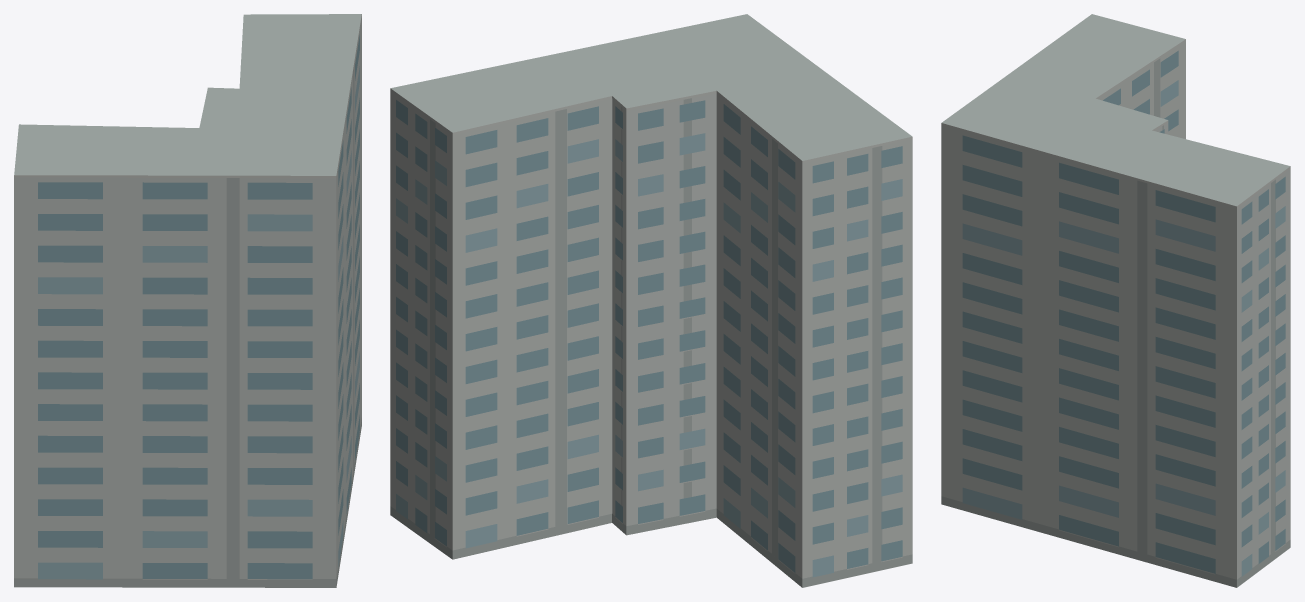
Rendered from residential-09c7fe29-2d6d-49af-8388-50448727cbea.glb.
The picture shows the model from 3 angles, left to right: view 1: azimuth 30°, elevation 25°; view 2: azimuth 150°, elevation 25°; view 3: azimuth 270°, elevation 25°; orthographic projection. The views are drawn at different scales.
Parts seen in each view (by area): view 1: residential-09c7fe29-2d6d-49af-8388-50448727cbea.tmp; view 2: residential-09c7fe29-2d6d-49af-8388-50448727cbea.tmp; view 3: residential-09c7fe29-2d6d-49af-8388-50448727cbea.tmp.
Part boxes in pixels (box(x1,y1,x2,y2)): residential-09c7fe29-2d6d-49af-8388-50448727cbea.tmp: box(14, 14, 361, 587); residential-09c7fe29-2d6d-49af-8388-50448727cbea.tmp: box(390, 14, 912, 587); residential-09c7fe29-2d6d-49af-8388-50448727cbea.tmp: box(941, 14, 1290, 587).
Bounding box in the file's own units: 45.44 × 42 × 34.85.
